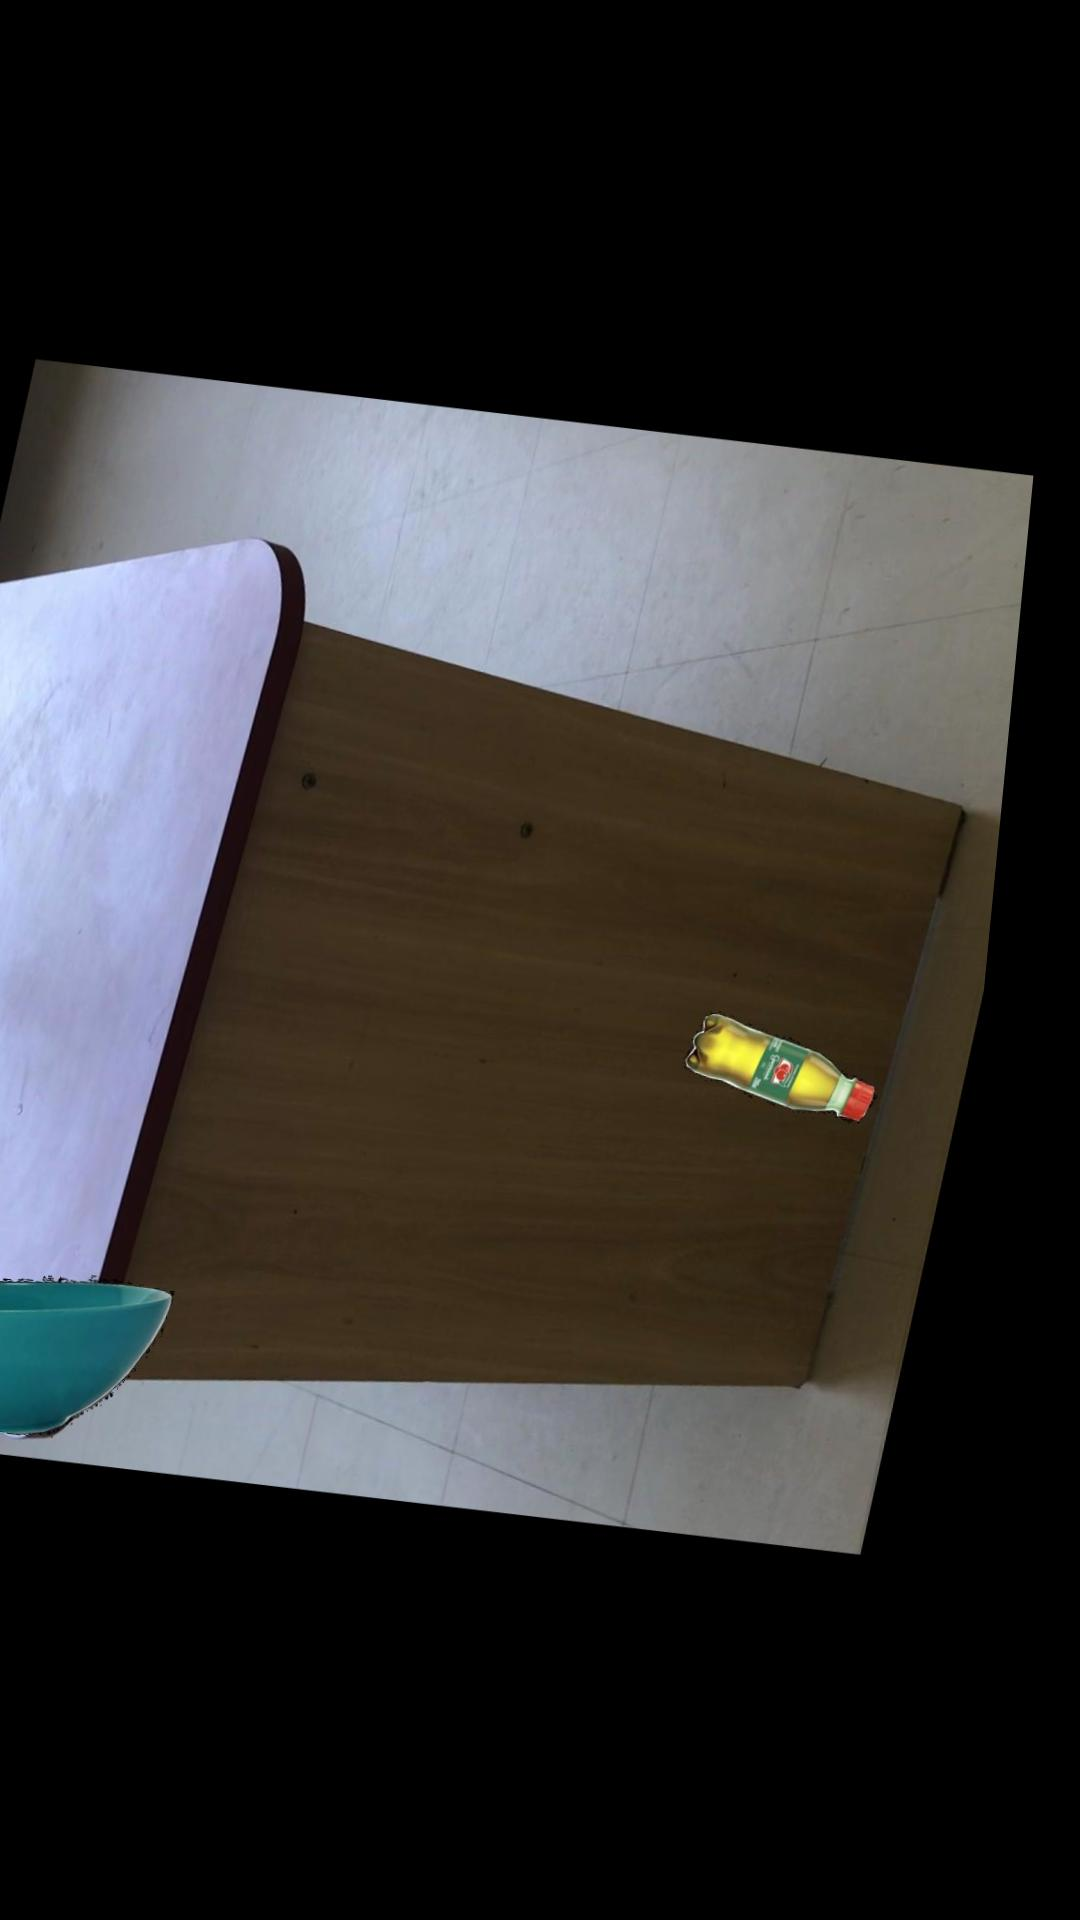bowl: (0, 1274, 199, 1432)
guarana: (705, 1011, 898, 1122)
